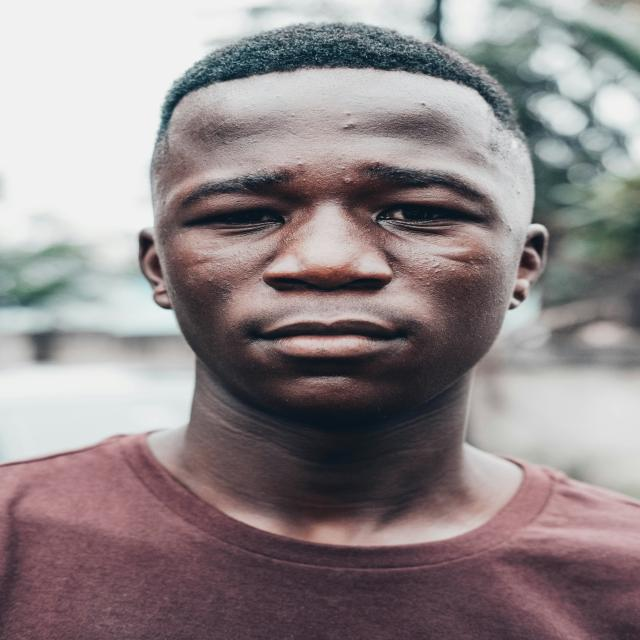piel: (138, 69, 549, 543)
